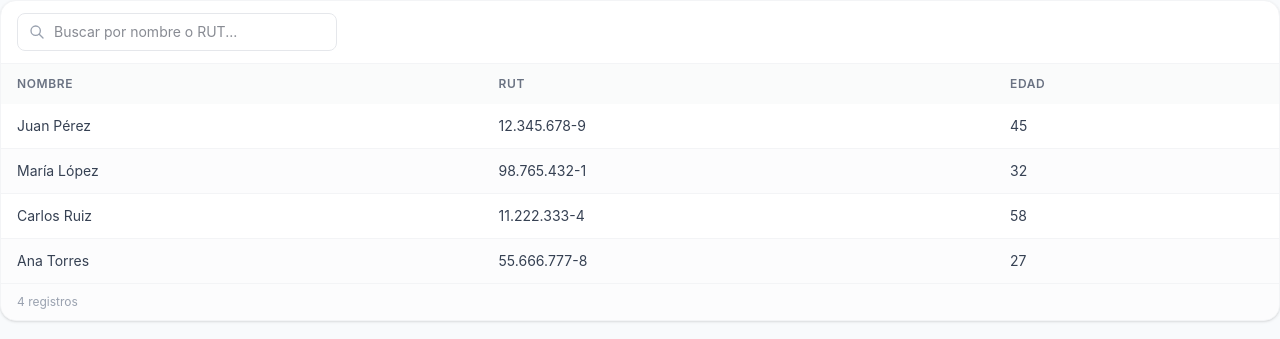
Scenario: DataTable › shows clear search button when searching
The image size is (1280, 339).
Type "test" into the field with placeholder "Buscar por nombre o RUT..." at (177, 32), box [17, 13, 337, 51]
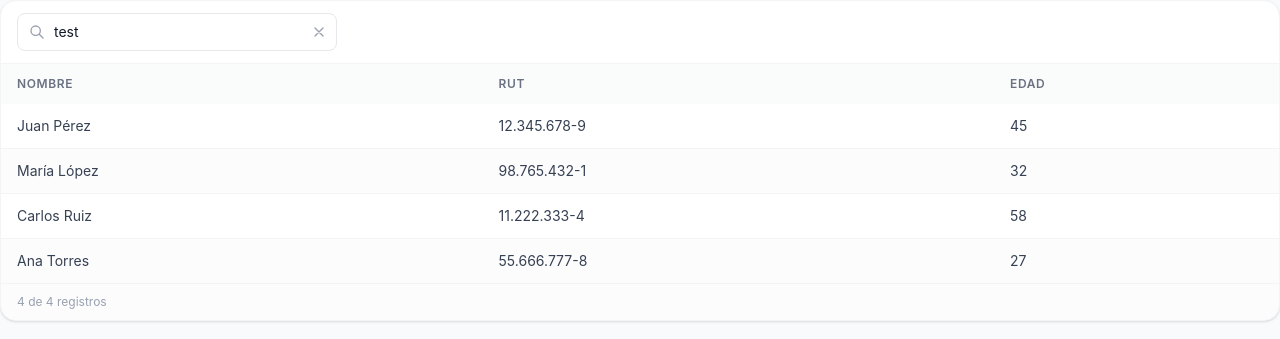
Expected: the button named "Limpiar búsqueda" is shown, [309, 22, 329, 42]
